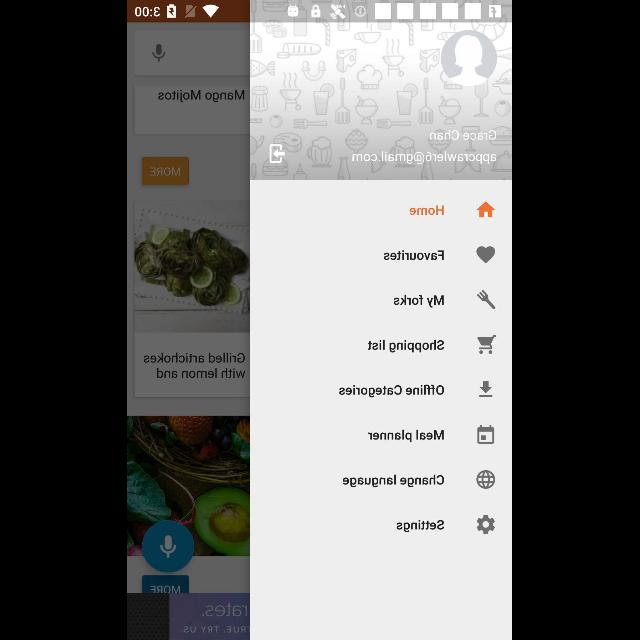icon: (440, 31, 498, 88), (476, 514, 496, 534), (478, 334, 498, 354), (477, 246, 497, 264), (478, 200, 497, 218), (477, 426, 495, 444), (270, 144, 286, 164), (478, 380, 494, 398)
image: (252, 22, 512, 180), (476, 469, 496, 488), (478, 289, 497, 309)
panel: (251, 22, 513, 640)
text: (354, 150, 498, 166), (340, 384, 444, 398), (343, 474, 445, 488), (368, 340, 446, 352), (369, 430, 445, 442), (384, 250, 446, 262), (394, 294, 444, 308), (430, 130, 498, 140), (397, 520, 445, 532), (410, 205, 444, 215)
uppertaskbar: (128, 1, 512, 23)
